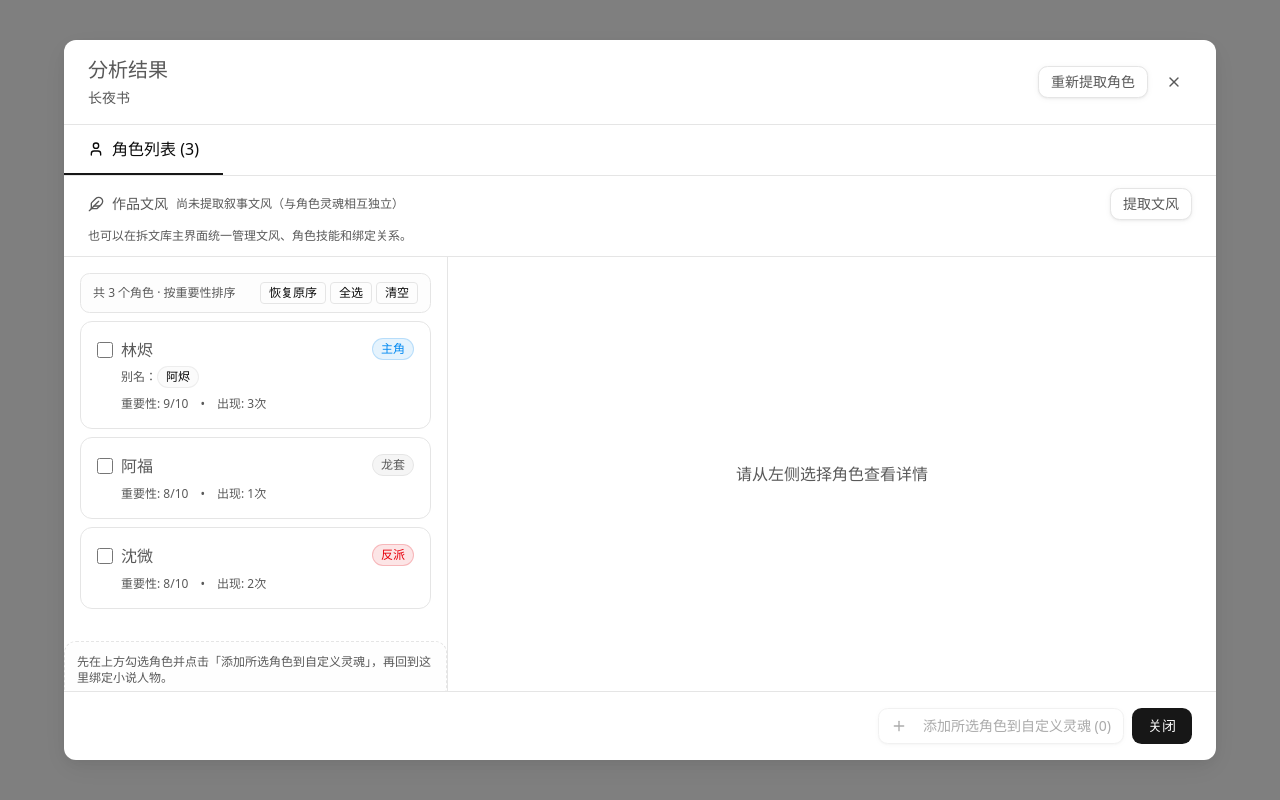
BookAnalysisResultViewer › supports select-all / clear / single select with footer counts
The width and height of the screenshot is (1280, 800).
Expected: the button "添加所选角色到自定义灵魂 (0)" is disabled, [878, 708, 1124, 744]
勾选第一个角色（林烬）
Click the 1st checkbox.
click(105, 350)  # box [97, 342, 113, 358]
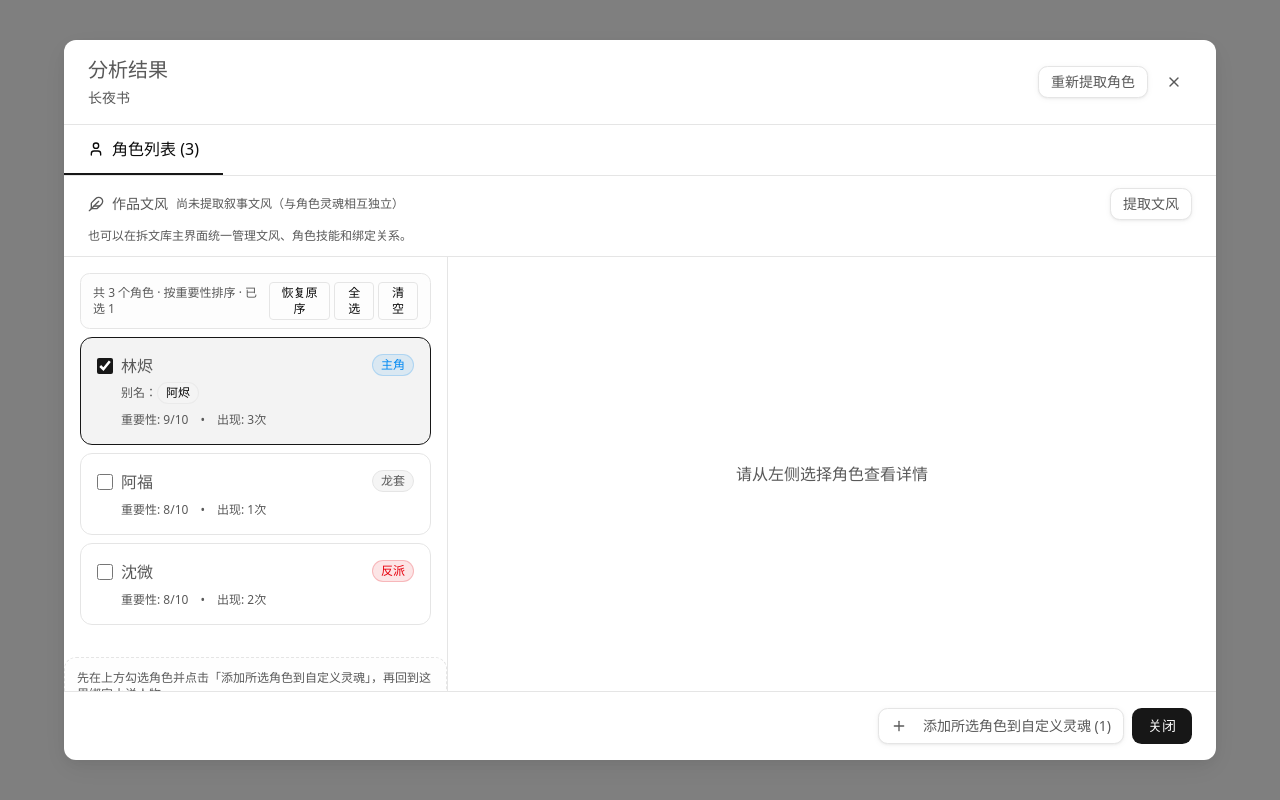
Expected: the text "共 3 个角色 · 按重要性排序 · 已选 1" is shown, [93, 285, 269, 317]
Expected: the button "添加所选角色到自定义灵魂 (1)" is enabled, [878, 708, 1124, 744]
Click the button "全选".
click(354, 301)  # box [334, 282, 374, 320]
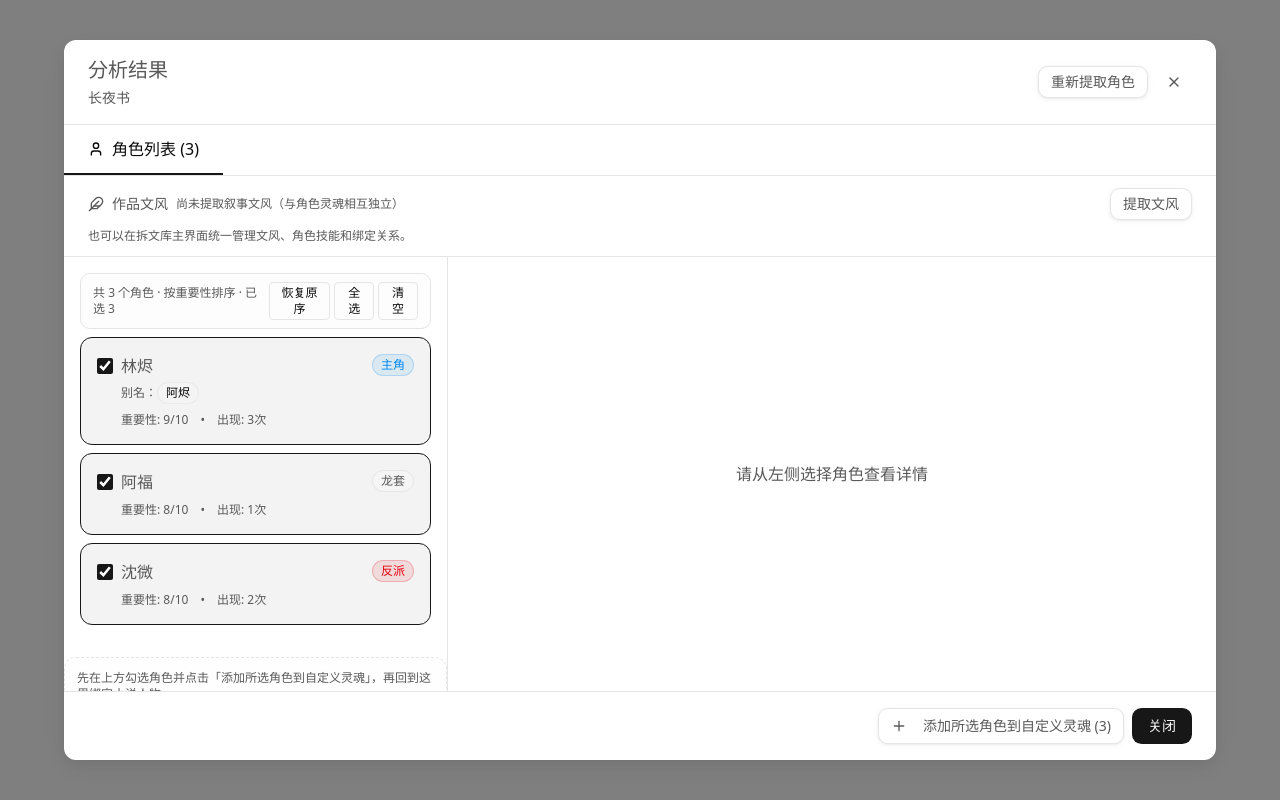
Expected: the text "共 3 个角色 · 按重要性排序 · 已选 3" is shown, [93, 285, 269, 317]
反选一个（删除分支）
Click the 1st checkbox.
click(105, 366)  # box [97, 358, 113, 374]
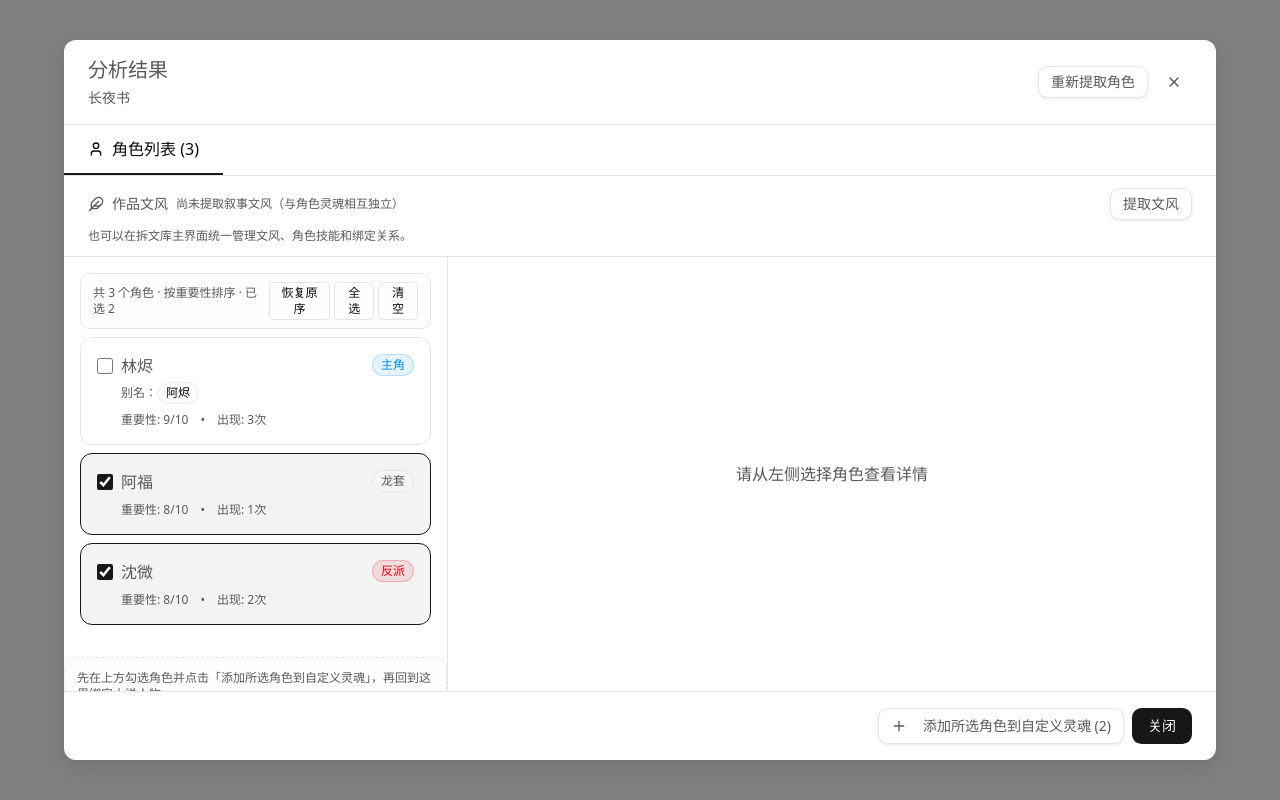
Expected: the text "共 3 个角色 · 按重要性排序 · 已选 2" is shown, [93, 285, 269, 317]
Click the button "清空".
click(398, 301)  # box [378, 282, 418, 320]
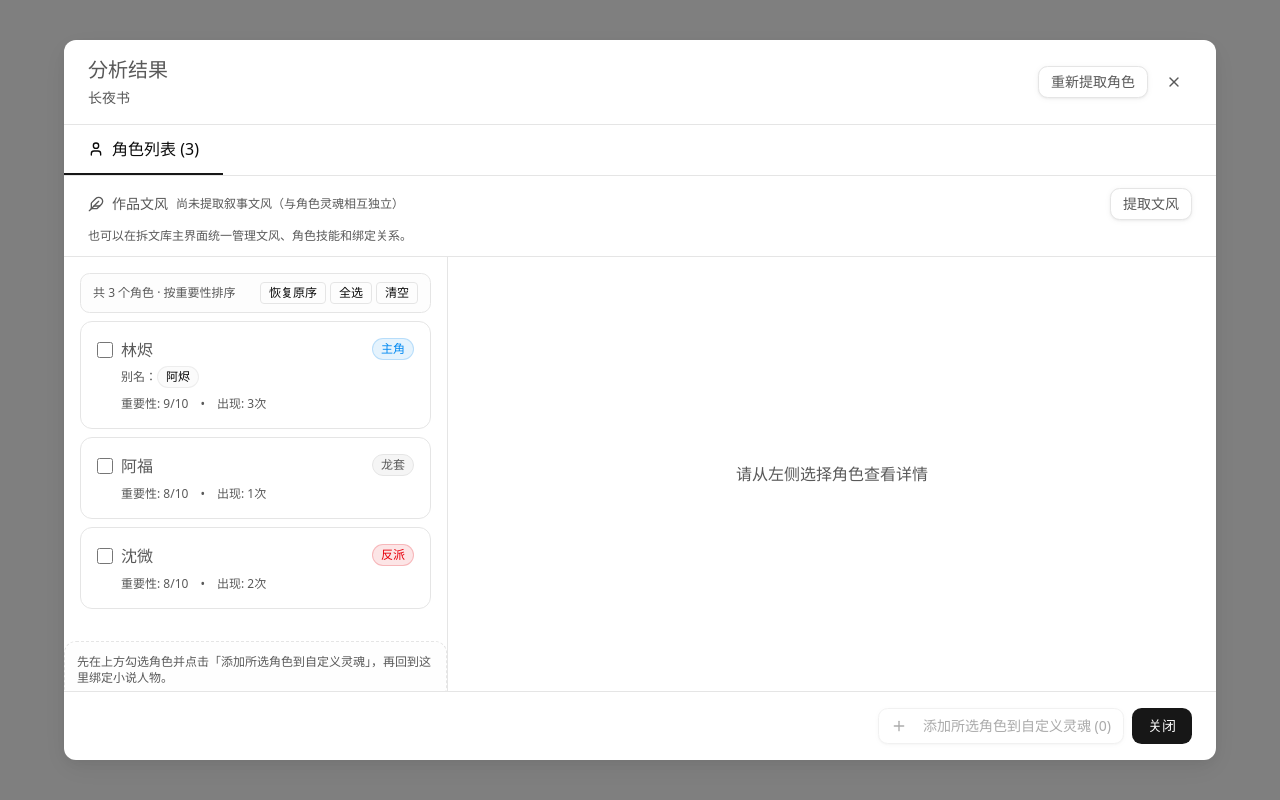
Expected: the text "共 3 个角色 · 按重要性排序 · 已选 2" is gone
